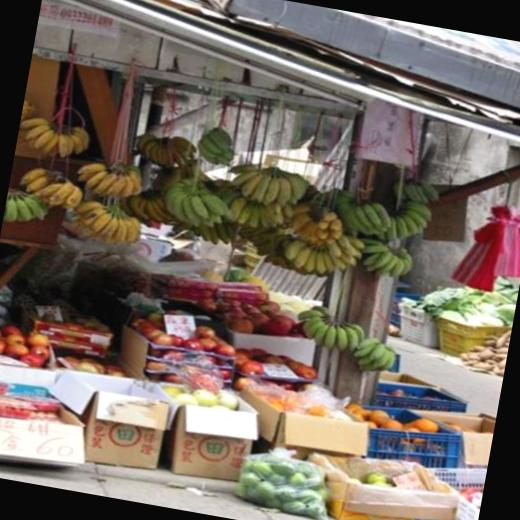Banana: (3, 110, 442, 294), (293, 304, 404, 378), (15, 101, 96, 162), (196, 124, 239, 170), (24, 120, 52, 143)
